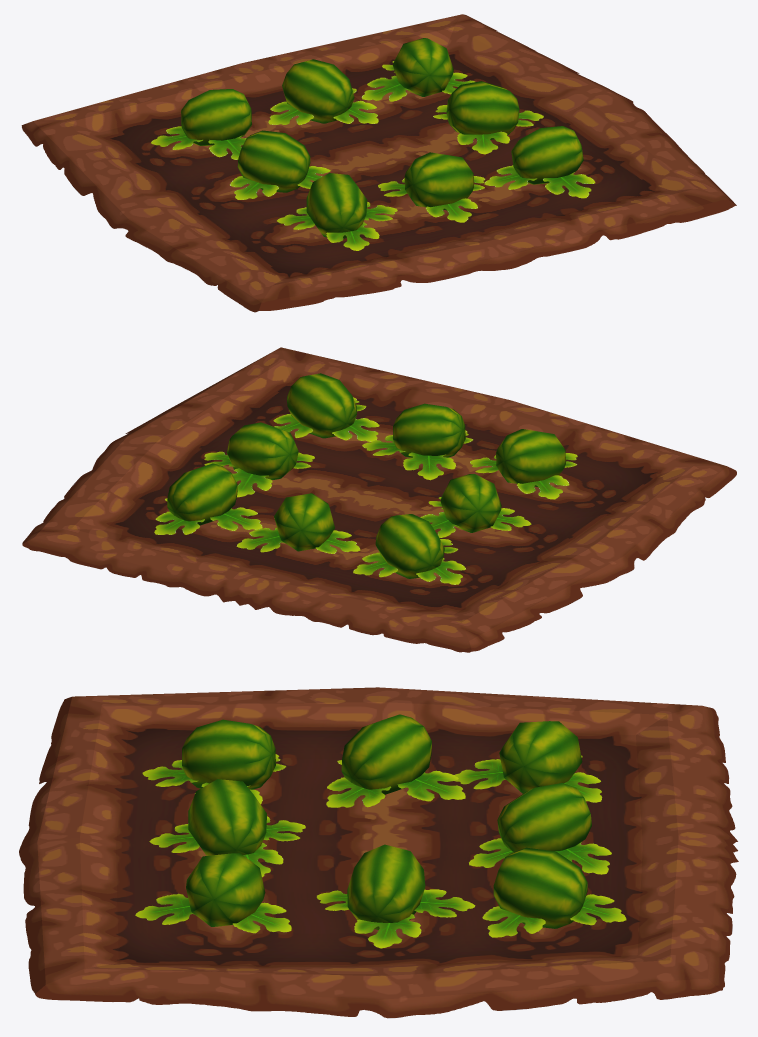
The model's file is Field_02a.FBX.
3 renders of one model, top to bottom at view 1: azimuth 30°, elevation 25°; view 2: azimuth 150°, elevation 25°; view 3: azimuth 270°, elevation 25°, orthographic. The views are drawn at different scales.
Visible parts, largest first — view 1: Field_02a; view 2: Field_02a; view 3: Field_02a.
Boxes of the visible parts, <box> form: Field_02a: <box>21,14,736,312</box>; Field_02a: <box>22,347,736,652</box>; Field_02a: <box>19,687,738,1018</box>.
Size of the model in its own units: 2.96 by 0.2949 by 2.74.
